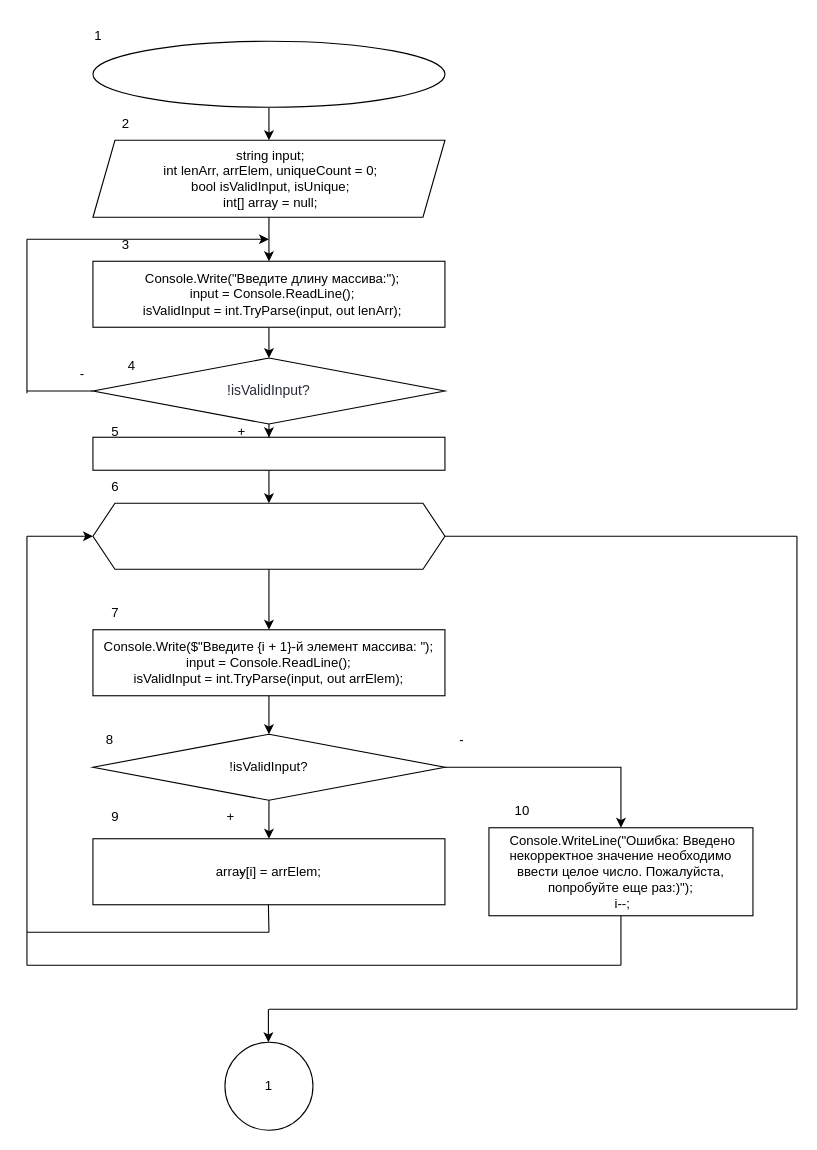
Image size: 817x1150. Some labels were removed from this diagram. Each missing label, with the centre of its shape:
array = new int[lenArr]: the point at 268,453
int i = 0; i < array.Length; i++: the point at 268,535
Начало: the point at 268,73
